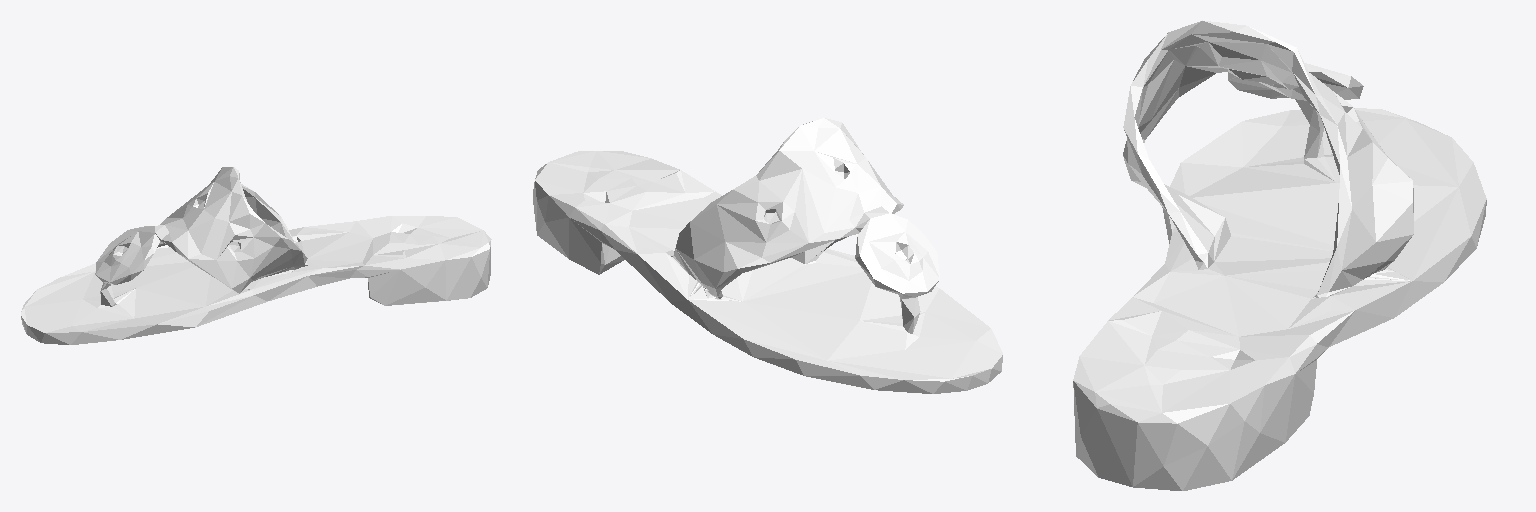
URDF robot description (PALMBEACHNAVAJOSANDAL):
<robot name="PALMBEACHNAVAJOSANDAL">
    <link name="base_link">
        <contact>
            <lateral_friction value="1.0" />
        </contact>
        <inertial>
            <origin xyz="0.0 0.0 0.04" />
            <mass value="0.6922416327341452" />
            <inertia ixx="1" ixy="0" ixz="0" iyy="1" iyz="0" izz="1" />
        </inertial>
        <visual>
            <origin xyz="0 0 0" />
            <geometry>
                <mesh filename="model_nPBvPYCdYgU.obj" />
            </geometry>
            <material name="PALMBEACHNAVAJOSANDAL">
                <color rgba="1 1 1 1" />
            </material>
        </visual>
        <collision>
            <origin xyz="0 0 0" />
            <geometry>
                <mesh filename="model_nPBvPYCdYgU_vhacd.obj" />
            </geometry>
        </collision>
    </link>
</robot>

--- Facts derived from the render (not from the file) ---
Views: 3 orthographic renders of the robot side by side, from view 1: azimuth 30°, elevation 25°; view 2: azimuth 150°, elevation 25°; view 3: azimuth 270°, elevation 25°.
Model PALMBEACHNAVAJOSANDAL with 1 links and 0 joints (none), rooted at base_link, posed every joint at zero.
Links seen in each view (by area): view 1: base_link; view 2: base_link; view 3: base_link.
Boxes of the visible links, box(x1,y1,x2,y2) form: base_link: box(21, 167, 491, 344); base_link: box(533, 118, 1002, 393); base_link: box(1073, 20, 1486, 490).
Bounding box of the posed robot: 0.2416 × 0.1154 × 0.081 m (x, y, z).
1 mesh visuals loaded from 1 distinct referenced files (1 OBJ).
